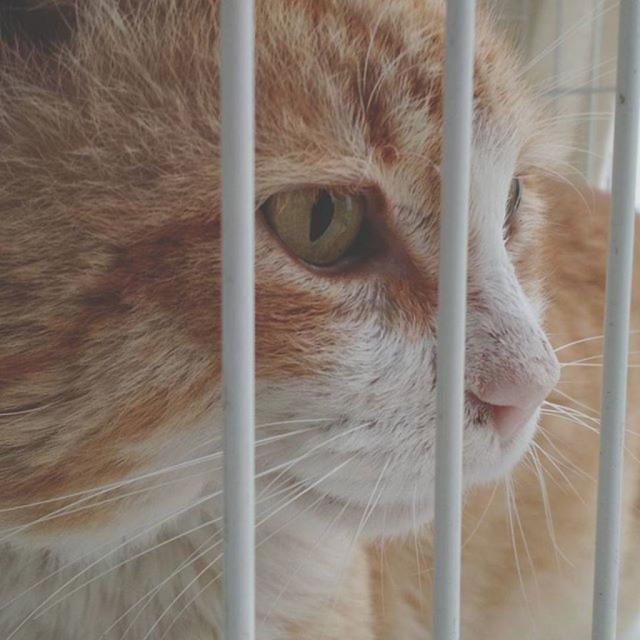Cat: (0, 3, 638, 638)
